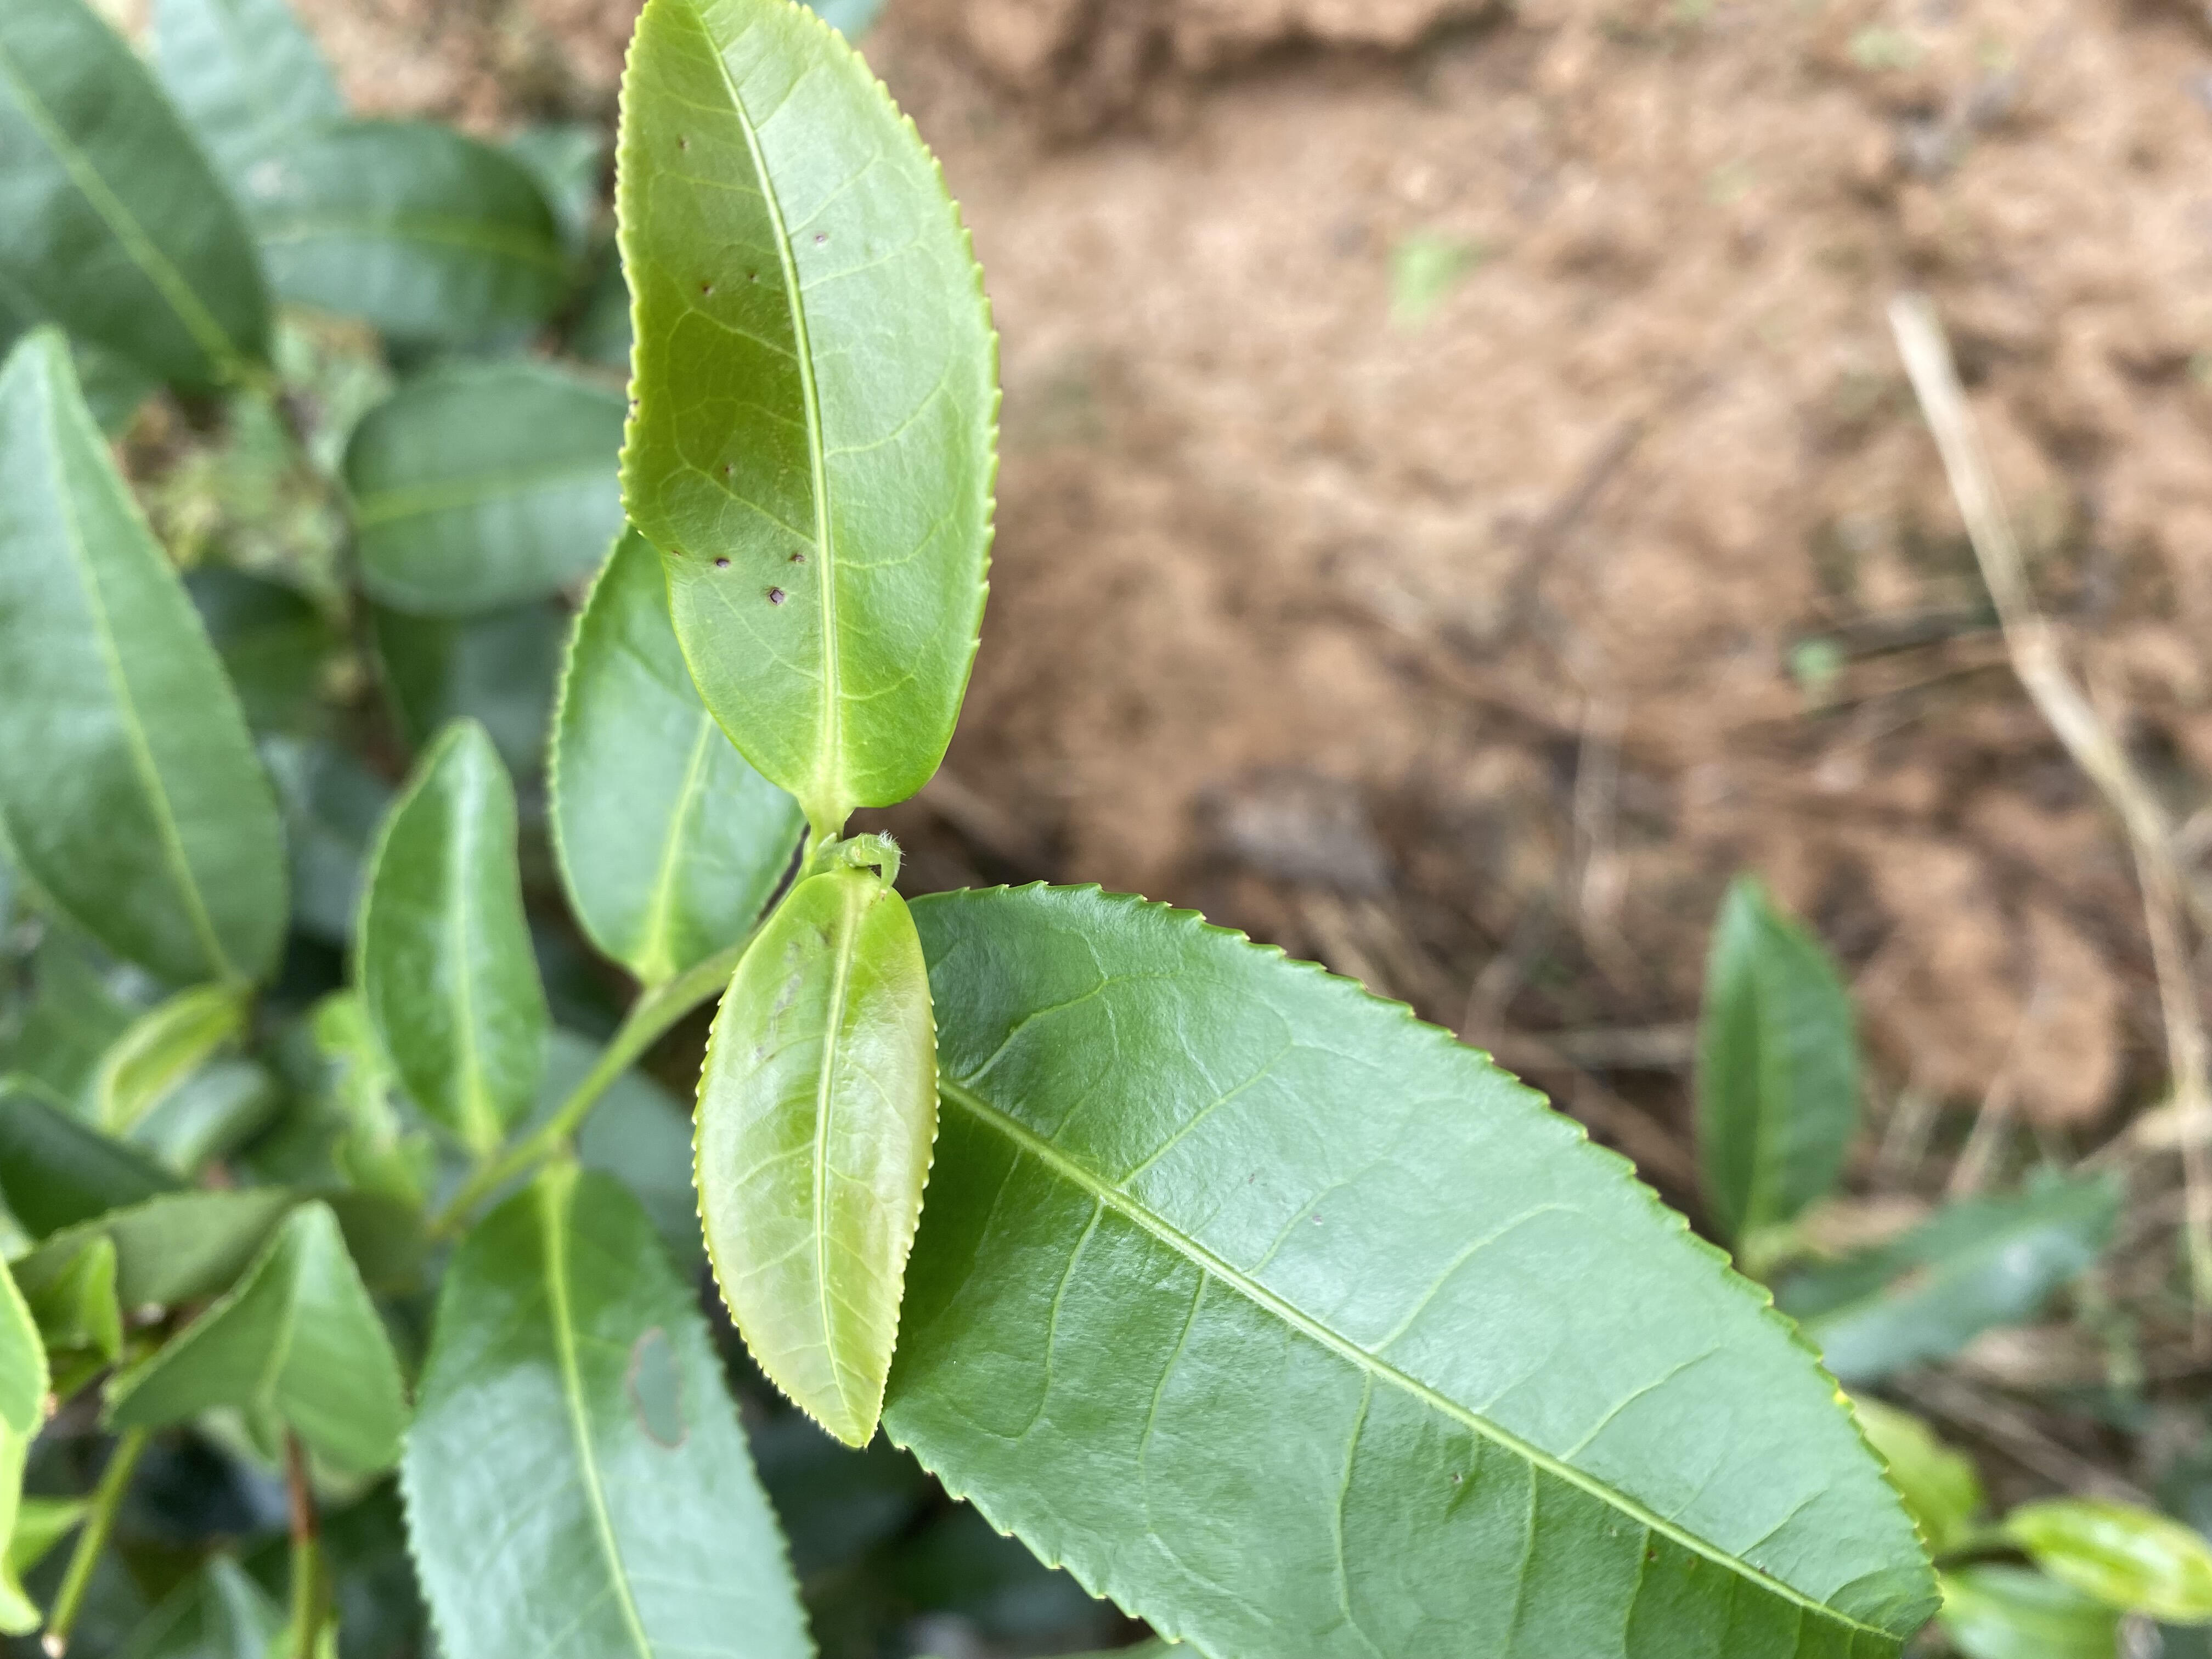tanju_low: (613, 2, 1001, 819)
